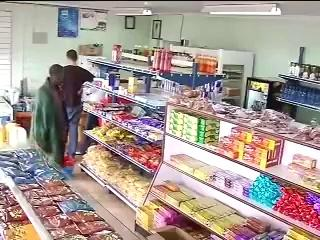Regular: (19, 60, 76, 171), (59, 44, 91, 85)
